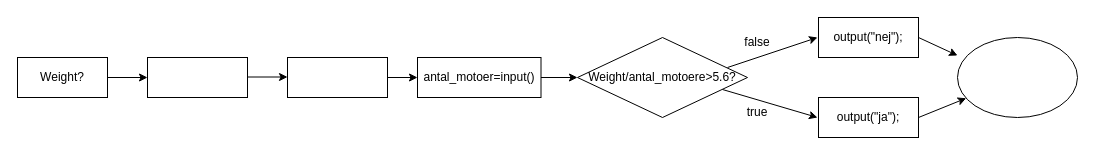
This 1095x155 diagram has some shape labels left out. The box of each missing label's shape, as (x1, y1, x2, y2) in pixels:
End: (956, 36, 1078, 118)
initial_motoer?: (286, 56, 388, 98)
Weight=input(): (146, 56, 248, 98)
